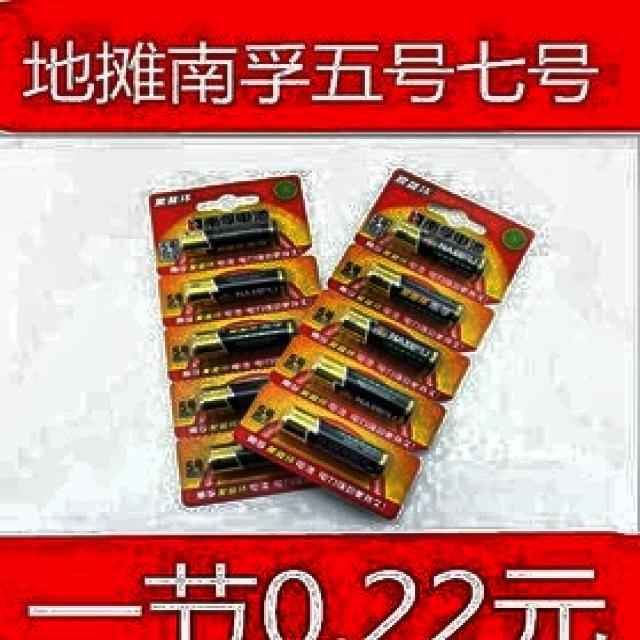Non-Valuable Waste - Batteries: (284, 409, 387, 476), (313, 356, 415, 422), (341, 310, 433, 369), (370, 266, 460, 323)
